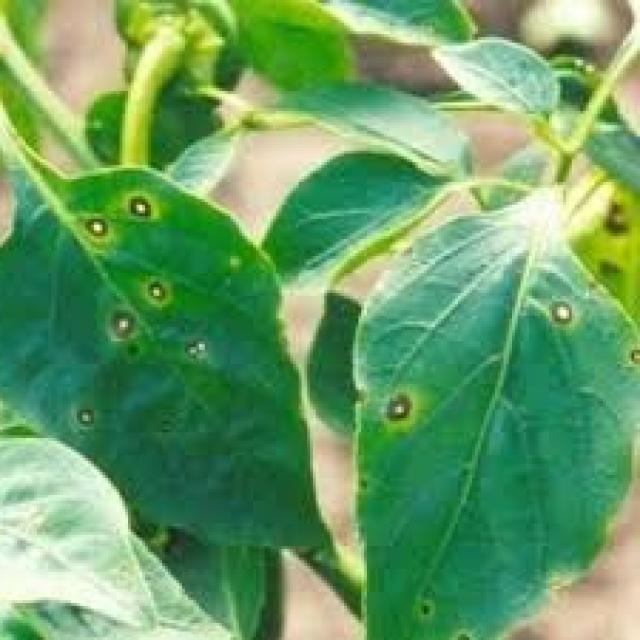bercak_daun: (0, 171, 324, 553), (338, 222, 640, 603)
